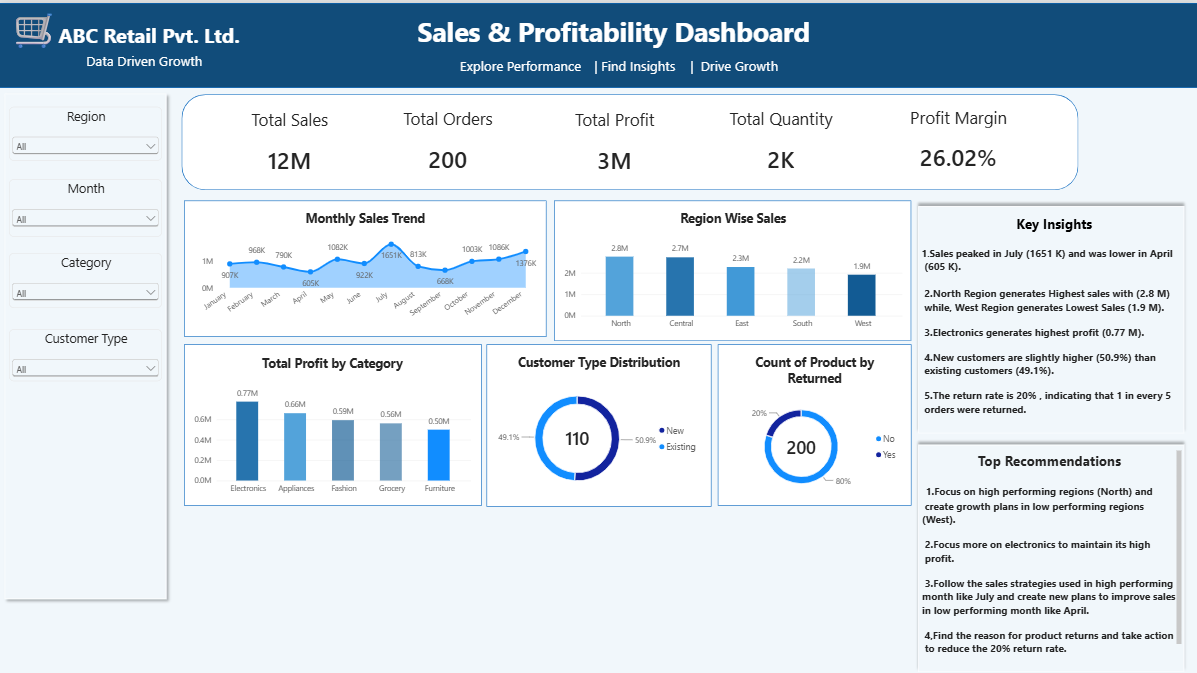

What the dashboard file says about the page in this screenshot:
{"tool":"powerbi","page":{"name":"Page 1","canvas":[1920,1080],"ordinal":0},"visuals":[{"type":"shape","box":[0,0,1920.1,135.7],"z":0},{"type":"textbox","box":[570,16.3,827,68.8],"z":1000},{"type":"textbox","box":[0,0,465.1,121.2],"z":2000},{"type":"textbox","box":[689.5,85.1,604.4,36.2],"z":3000},{"type":"shape","box":[291.7,146.7,1435,153.3],"z":4000},{"type":"cardVisual","title":"Total Profit","fields":{"Data":["Retail Sales Dataset.Total Profit"]},"box":[815,150,338.4,150.2],"z":5000},{"type":"cardVisual","title":"Total Quantity","fields":{"Data":["Sum(Retail Sales Dataset.Quantity)"]},"box":[1081.7,148.3,338.4,150.2],"z":6000},{"type":"cardVisual","title":"Total Sales","fields":{"Data":["Sum(Retail Sales Dataset.Sales (₹))"]},"box":[296.7,150,338.4,150.2],"z":7000},{"type":"shape","box":[296.7,315,580,218.3],"z":8000},{"type":"cardVisual","title":"Profit Margin","fields":{"Data":["Retail Sales Dataset.Profit Margin %"]},"box":[1366.7,146.7,338.4,150.2],"z":9000},{"type":"shape","box":[888.3,315,571.7,225],"z":10000},{"type":"cardVisual","title":"Total Orders","fields":{"Data":["Retail Sales Dataset.Count"]},"box":[548.3,148.3,340.7,150.8],"z":11000},{"type":"shape","box":[295,546.7,476.7,258.3],"z":12000},{"type":"shape","box":[0,135,276.7,826.7],"z":13000},{"type":"columnChart","title":"Region Wise Sales","fields":{"Category":["Retail Sales Dataset.Region"],"Y":["Sum(Retail Sales Dataset.Sales (₹))"]},"box":[888.3,315,573.3,225],"z":14000},{"type":"lineChart","title":"Monthly Sales Trend","fields":{"Category":["Retail Sales Dataset.Order Date.Variation.Date Hierarchy.Month"],"Y":["Sum(Retail Sales Dataset.Sales (₹))"]},"box":[296.7,315,580,218.3],"z":15000},{"type":"shape","box":[780,545,360,260],"z":16000},{"type":"columnChart","fields":{"Category":["Retail Sales Dataset.Category"],"Y":["Retail Sales Dataset.Total Profit"]},"box":[296.7,548.3,475,256.7],"z":17000},{"type":"shape","box":[1150,545,310,258.3],"z":18000},{"type":"donutChart","fields":{"Category":["Retail Sales Dataset.Returned"],"Y":["CountNonNull(Retail Sales Dataset.Product)"]},"box":[1150,546.7,310,260],"z":19000},{"type":"donutChart","title":"Customer Type Distribution","fields":{"Y":["CountNonNull(Retail Sales Dataset.Customer Type)"],"Category":["Retail Sales Dataset.Customer Type"]},"box":[780,545,360,260],"z":20000},{"type":"shape","box":[1461.7,315,443.3,381.7],"z":21000},{"type":"slicer","title":"Region","fields":{"Values":["Retail Sales Dataset.Region"]},"box":[16.7,166.7,245,86],"z":22000},{"type":"slicer","title":"Month","fields":{"Values":["Retail Sales Dataset.Order Date.Variation.Date Hierarchy.Month"]},"box":[16.7,281.7,245,91.7],"z":23000},{"type":"slicer","title":"Category","fields":{"Values":["Retail Sales Dataset.Category"]},"box":[16.7,400,245,88.3],"z":24000},{"type":"slicer","title":"Customer Type","fields":{"Values":["Retail Sales Dataset.Customer Type"]},"box":[15,521.7,245,83.3],"z":25000},{"type":"shape","box":[1461.7,698.3,443.3,381.7],"z":26000},{"type":"textbox","box":[1476,716,416,346],"z":27000},{"type":"textbox","box":[1476.7,338.3,425,338.3],"z":28000}]}

Visuals, with their boxes in screenshot pixels (x1, y1, x2, y2), scaled from the page's 1920x1080 canvas onto the 1197x673 screenshot:
shape: [0, 0, 1196, 85]
textbox: [355, 10, 871, 53]
textbox: [0, 0, 290, 76]
textbox: [430, 53, 807, 76]
shape: [182, 91, 1076, 187]
"Total Profit" cardVisual: [508, 93, 719, 187]
"Total Quantity" cardVisual: [674, 92, 885, 186]
"Total Sales" cardVisual: [185, 93, 396, 187]
shape: [185, 196, 547, 332]
"Profit Margin" cardVisual: [852, 91, 1063, 185]
shape: [554, 196, 910, 336]
"Total Orders" cardVisual: [342, 92, 554, 186]
shape: [184, 341, 481, 502]
shape: [0, 84, 173, 599]
"Region Wise Sales" columnChart: [554, 196, 911, 336]
"Monthly Sales Trend" lineChart: [185, 196, 547, 332]
shape: [486, 340, 711, 502]
columnChart - Retail Sales Dataset.Category x Retail Sales Dataset.Total Profit: [185, 342, 481, 502]
shape: [717, 340, 910, 501]
donutChart - Retail Sales Dataset.Returned x CountNonNull(Retail Sales Dataset.Product): [717, 341, 910, 503]
"Customer Type Distribution" donutChart: [486, 340, 711, 502]
shape: [911, 196, 1188, 434]
"Region" slicer: [10, 104, 163, 157]
"Month" slicer: [10, 176, 163, 233]
"Category" slicer: [10, 249, 163, 304]
"Customer Type" slicer: [9, 325, 162, 377]
shape: [911, 435, 1188, 672]
textbox: [920, 446, 1180, 662]
textbox: [921, 211, 1186, 422]
